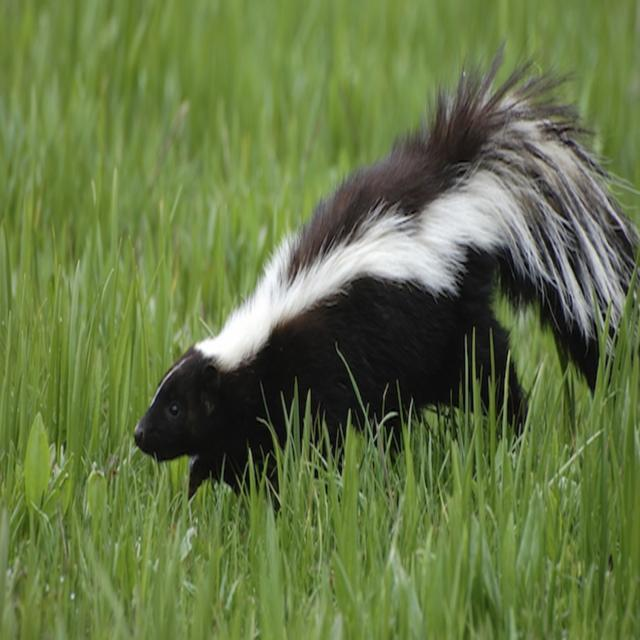Skunk: (127, 40, 640, 501)
